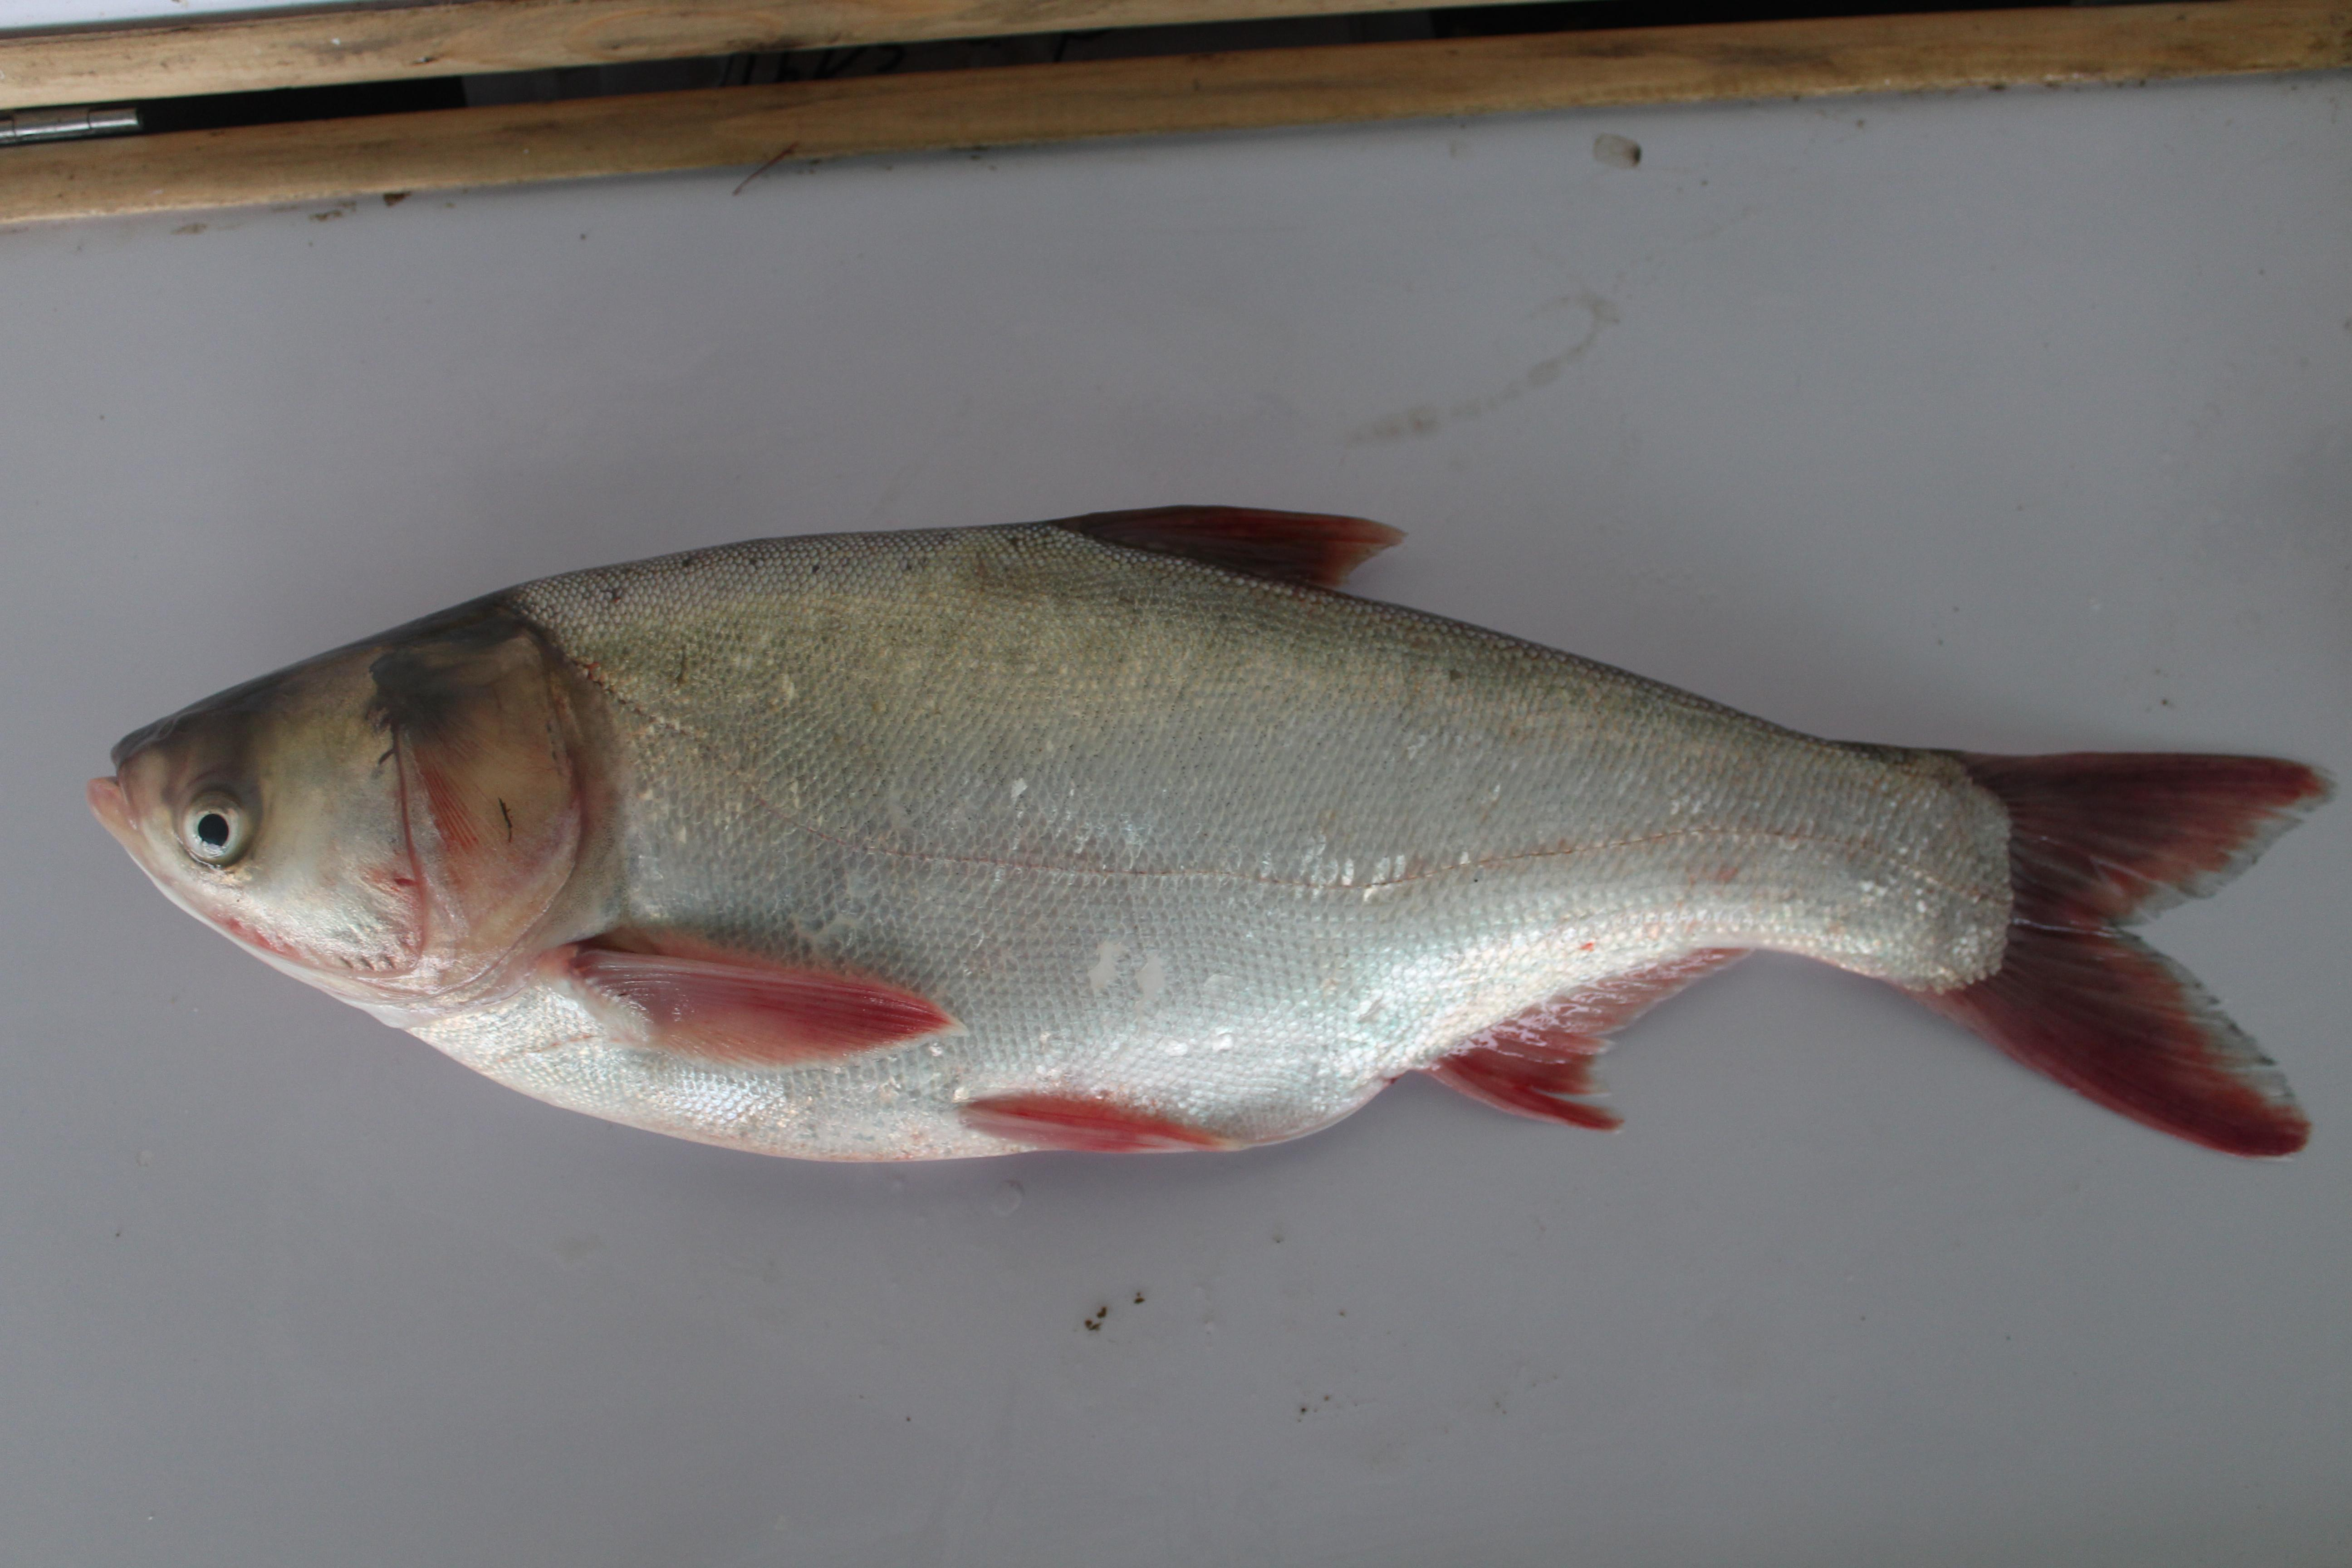Silver Carp: (87, 508, 2324, 1193)
